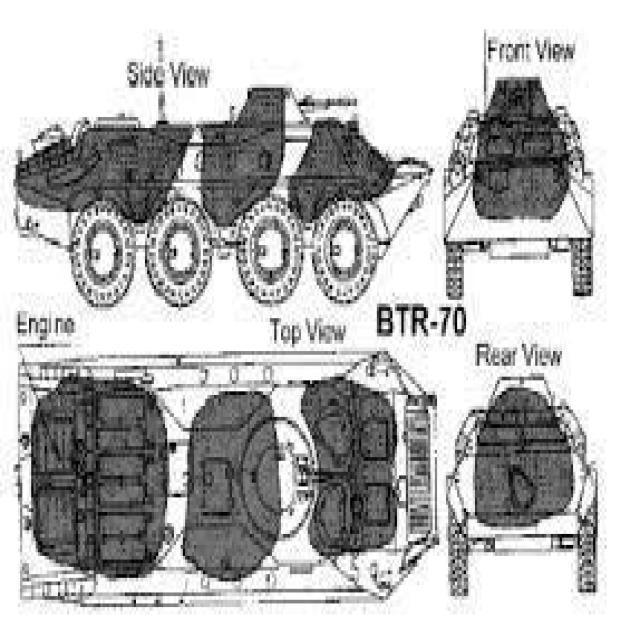MIL_MBT: (1, 313, 434, 609), (22, 59, 415, 307), (415, 338, 622, 627), (431, 48, 605, 344)
